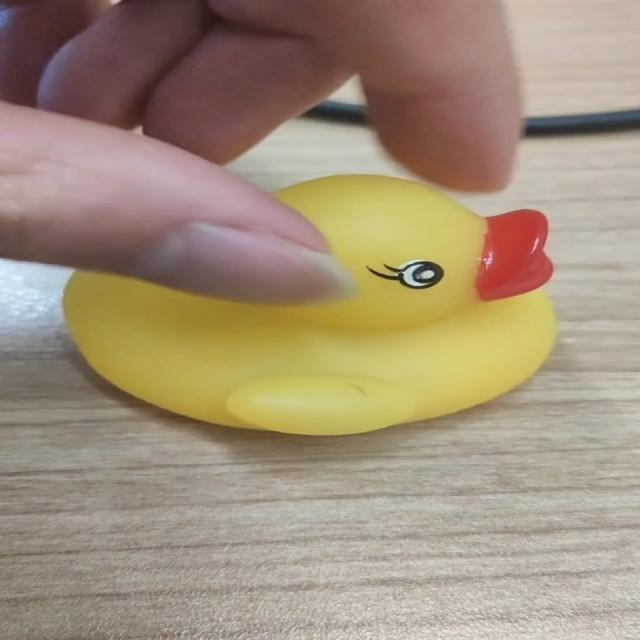rubber-duck: (63, 174, 553, 433)
